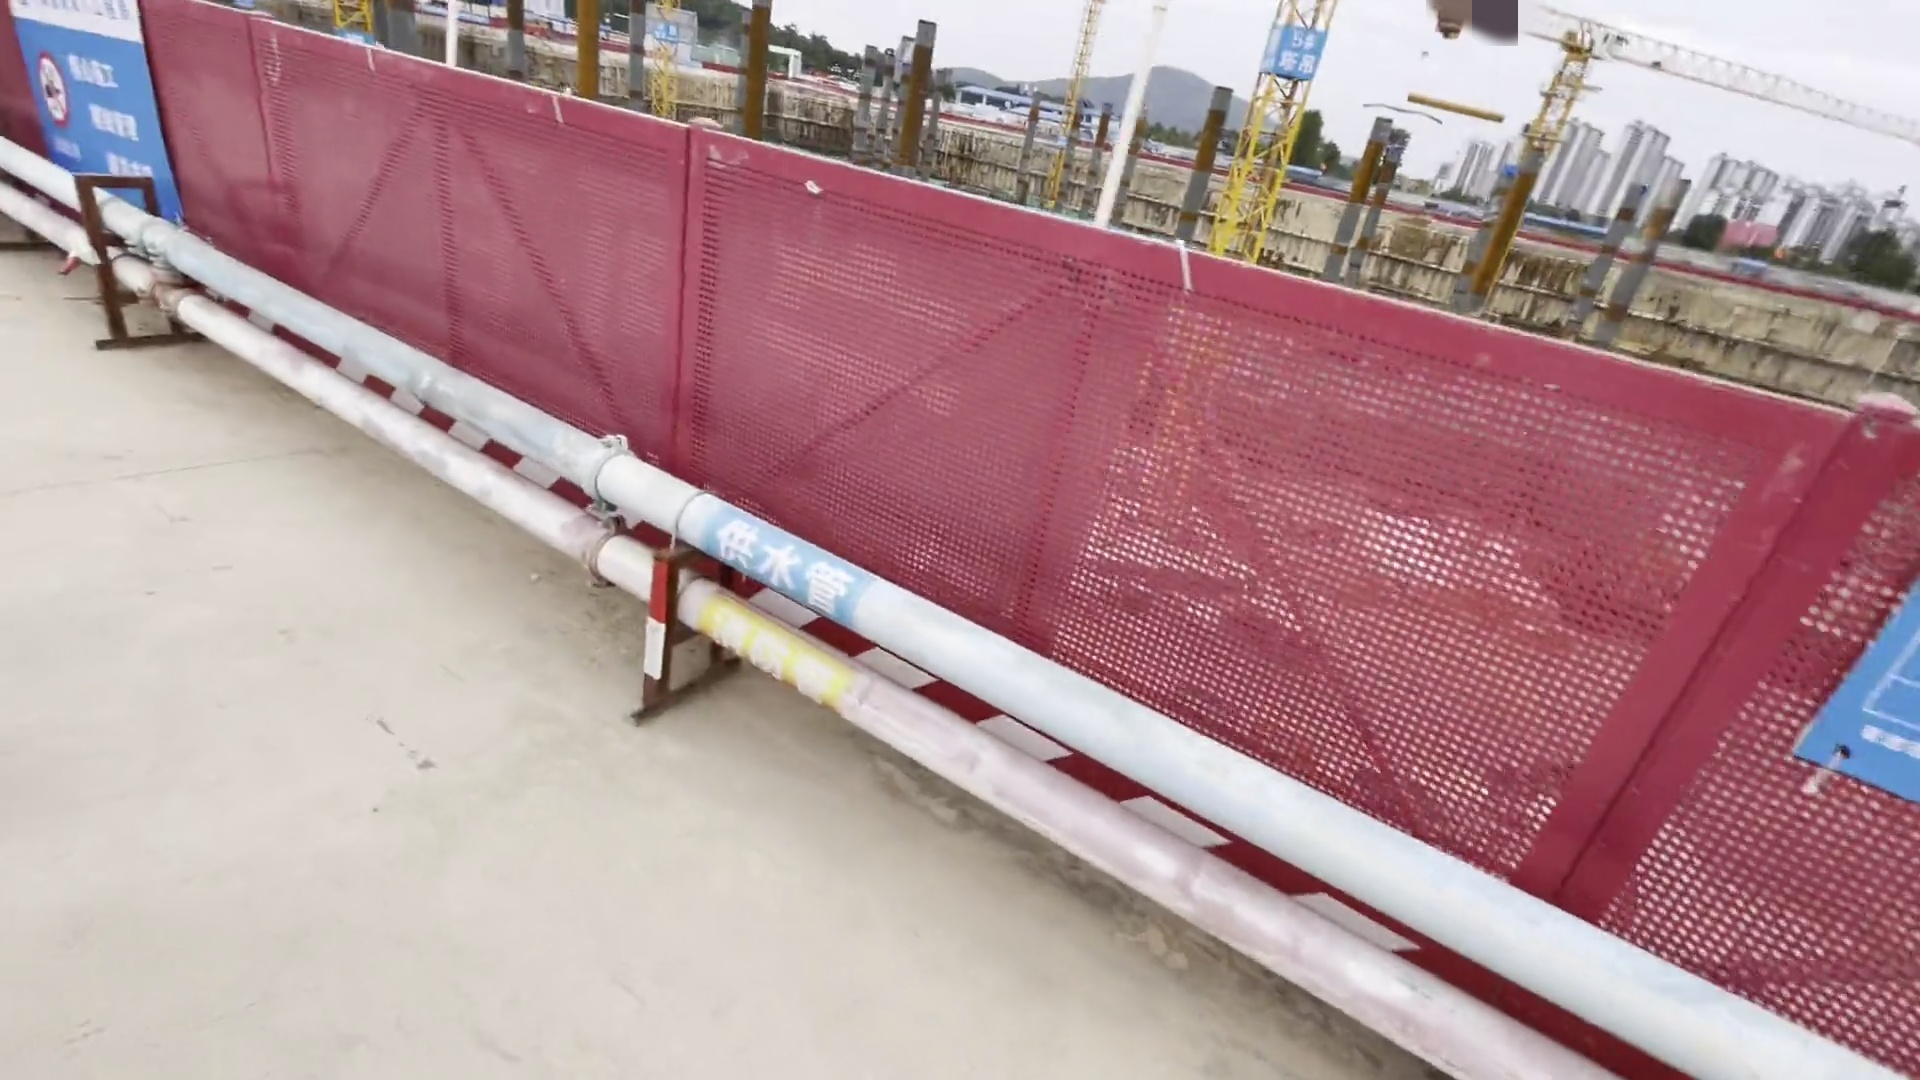fence: (196, 47, 1909, 1010)
slogan: (11, 1, 170, 225)
